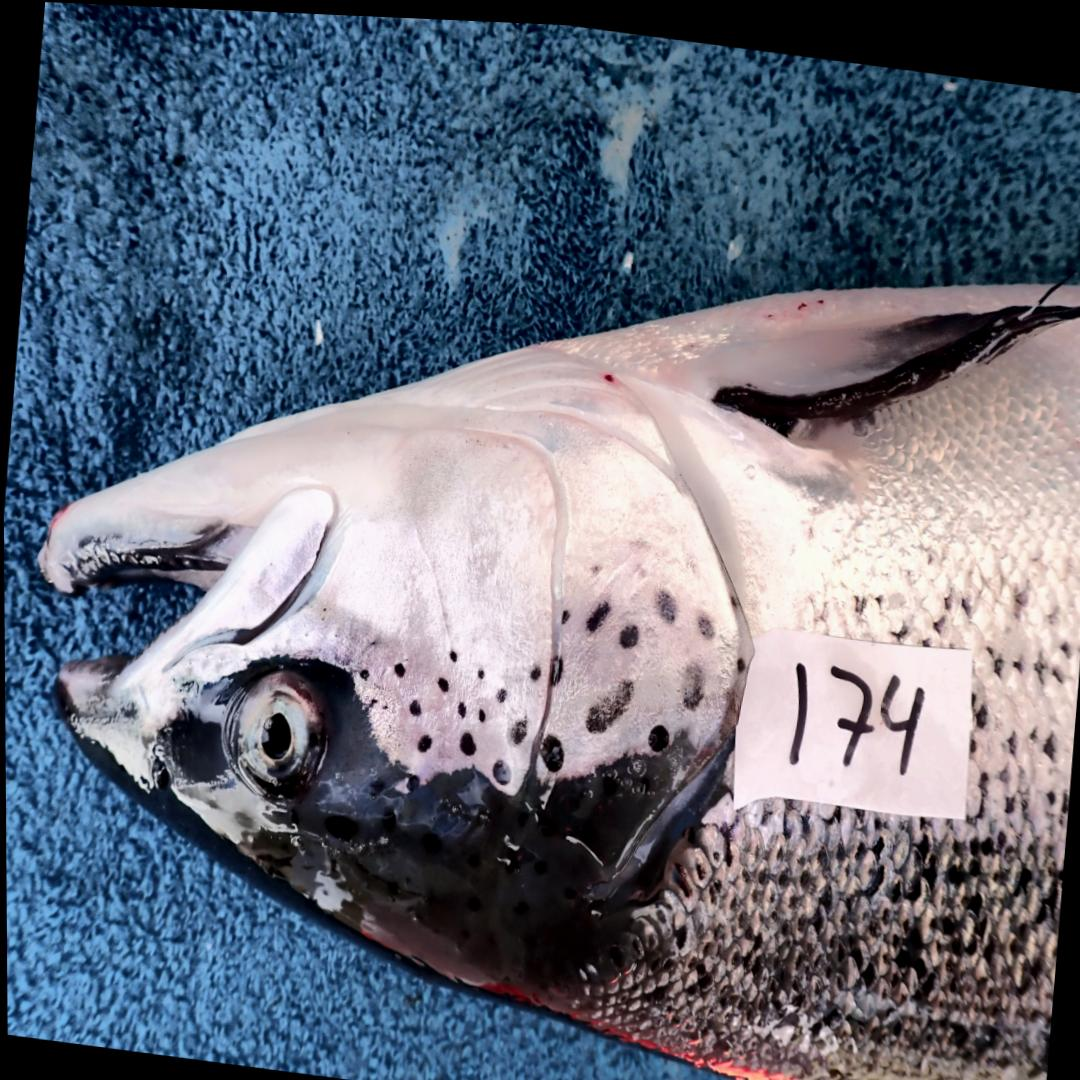spot: (584, 673, 633, 728), (682, 656, 704, 703), (540, 731, 564, 767), (585, 596, 609, 627), (655, 583, 677, 616), (646, 718, 668, 747), (491, 754, 510, 781), (509, 713, 527, 739), (619, 619, 638, 643), (458, 727, 476, 751), (697, 608, 714, 632), (683, 546, 700, 570), (550, 651, 563, 680), (631, 557, 649, 575), (728, 577, 738, 606), (416, 730, 430, 748), (529, 660, 541, 675), (409, 697, 420, 712), (735, 650, 746, 665), (495, 685, 506, 699), (475, 662, 486, 676), (560, 603, 569, 620), (392, 660, 403, 673), (437, 674, 448, 687), (357, 665, 368, 677), (590, 560, 601, 572), (457, 697, 465, 712), (448, 647, 457, 659), (478, 705, 485, 717), (367, 696, 377, 704), (369, 636, 377, 643), (381, 701, 387, 706), (488, 669, 492, 675)
